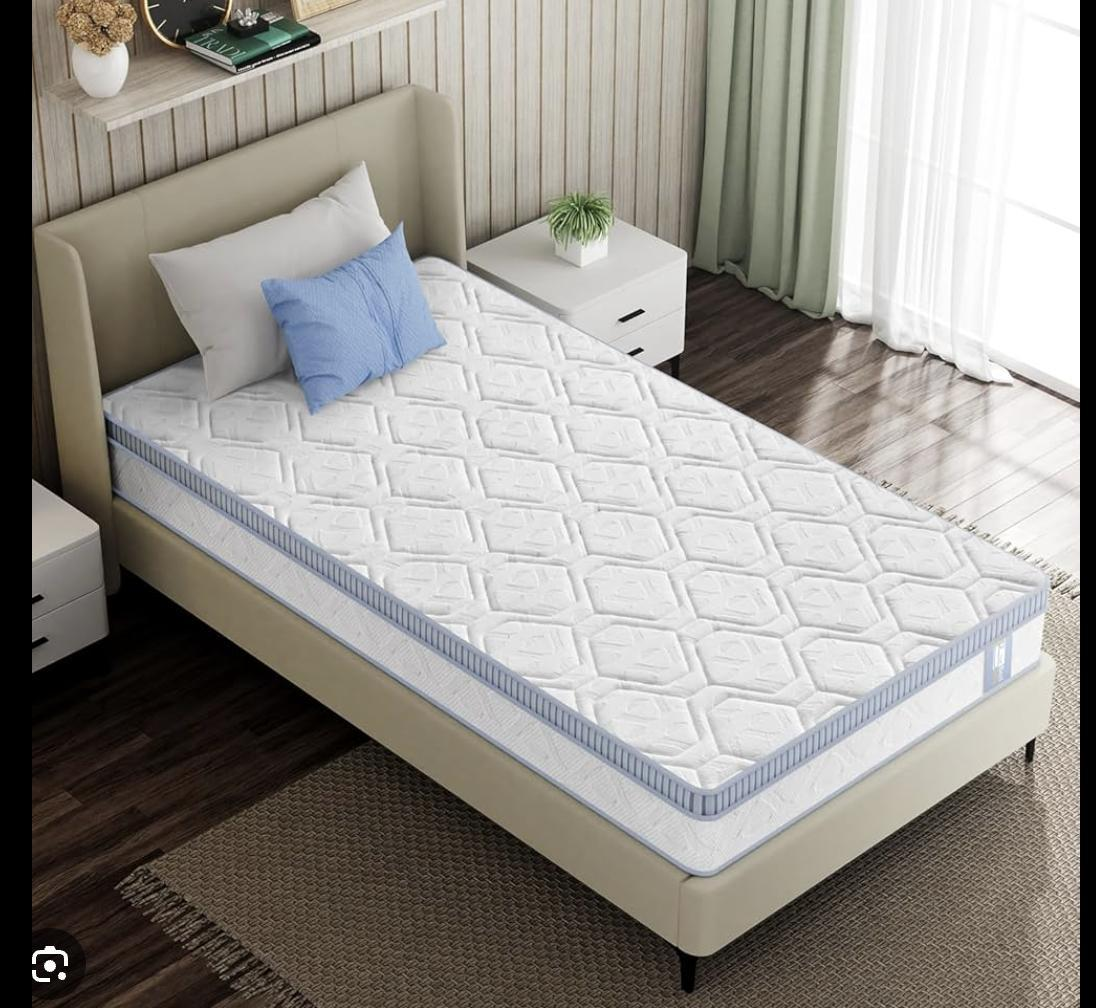Bed-Mattress: (33, 66, 1066, 975)
